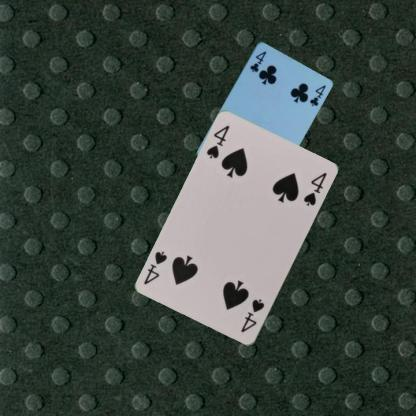4c: (247, 48, 268, 74)
4s: (203, 122, 231, 160), (238, 297, 266, 334)
